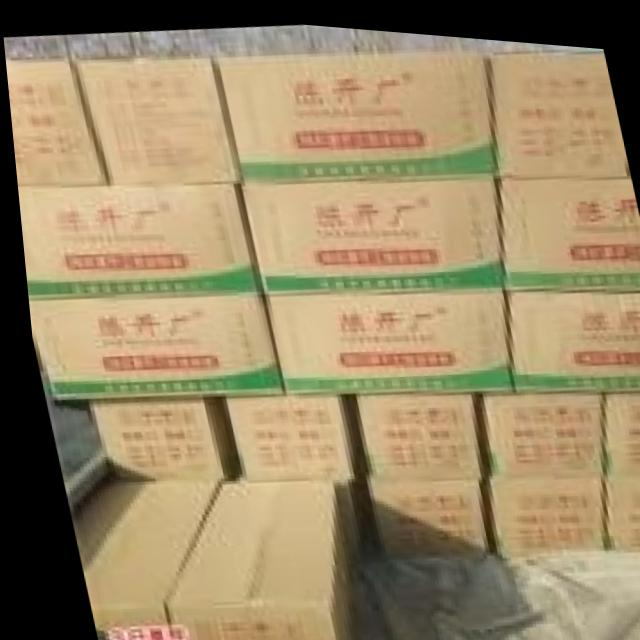box: (209, 42, 497, 180), (146, 472, 346, 640), (233, 171, 498, 285), (23, 287, 278, 400), (14, 181, 254, 301), (262, 280, 508, 387), (66, 474, 211, 640), (65, 50, 239, 185), (487, 37, 624, 167), (496, 165, 640, 278), (499, 278, 640, 383), (5, 57, 107, 187), (81, 394, 230, 477), (217, 390, 353, 475), (348, 389, 477, 472), (471, 382, 594, 469), (355, 473, 481, 551), (475, 470, 594, 547), (586, 381, 640, 466), (595, 469, 640, 541), (322, 469, 352, 556)
